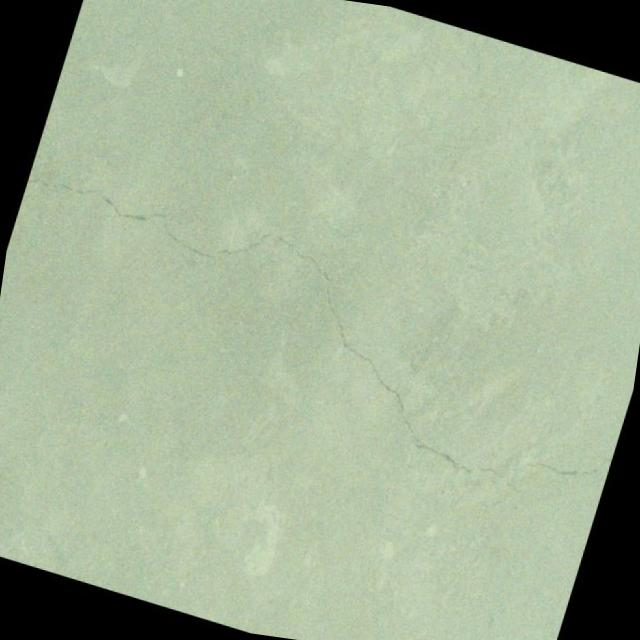crack: (0, 143, 609, 506), (524, 435, 614, 490)
